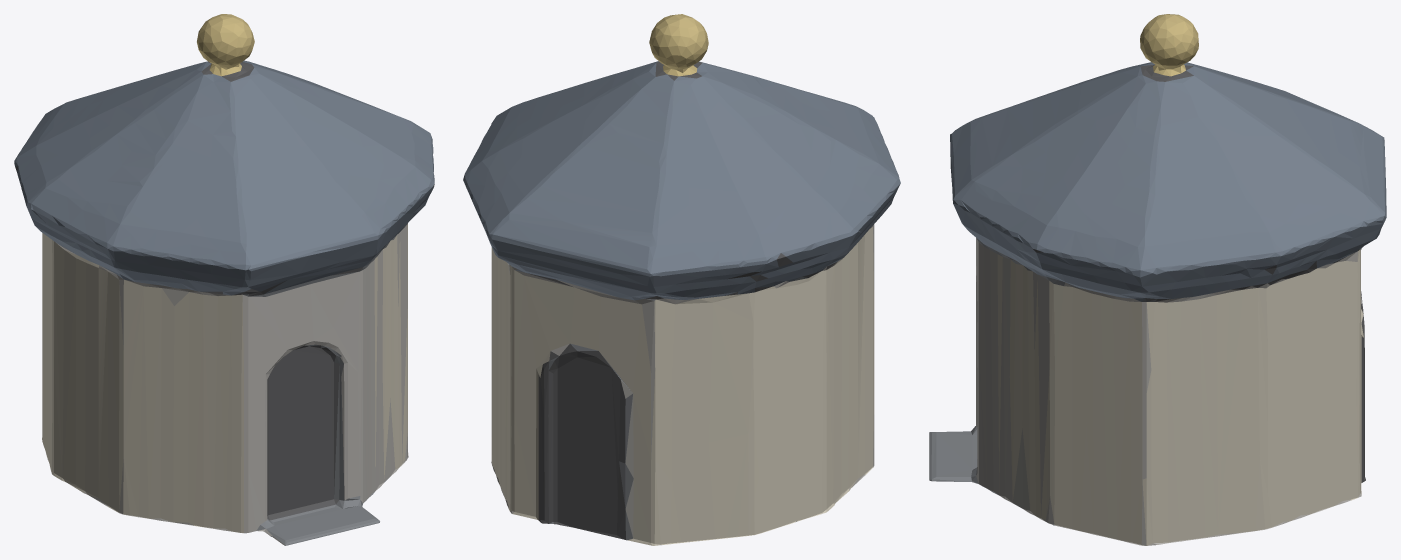
The picture shows the model from 3 angles, left to right: view 1: azimuth 30°, elevation 25°; view 2: azimuth 150°, elevation 25°; view 3: azimuth 270°, elevation 25°; orthographic projection. The views are drawn at different scales.
Visible parts, largest first — view 1: geometry_0; view 2: geometry_0; view 3: geometry_0.
Part boxes in pixels (box(x1,y1,x2,y2)): geometry_0: box(14, 14, 434, 545); geometry_0: box(463, 14, 900, 545); geometry_0: box(929, 14, 1386, 545).
Bounding box in the file's own units: 0.8717 × 0.9546 × 0.8899.
